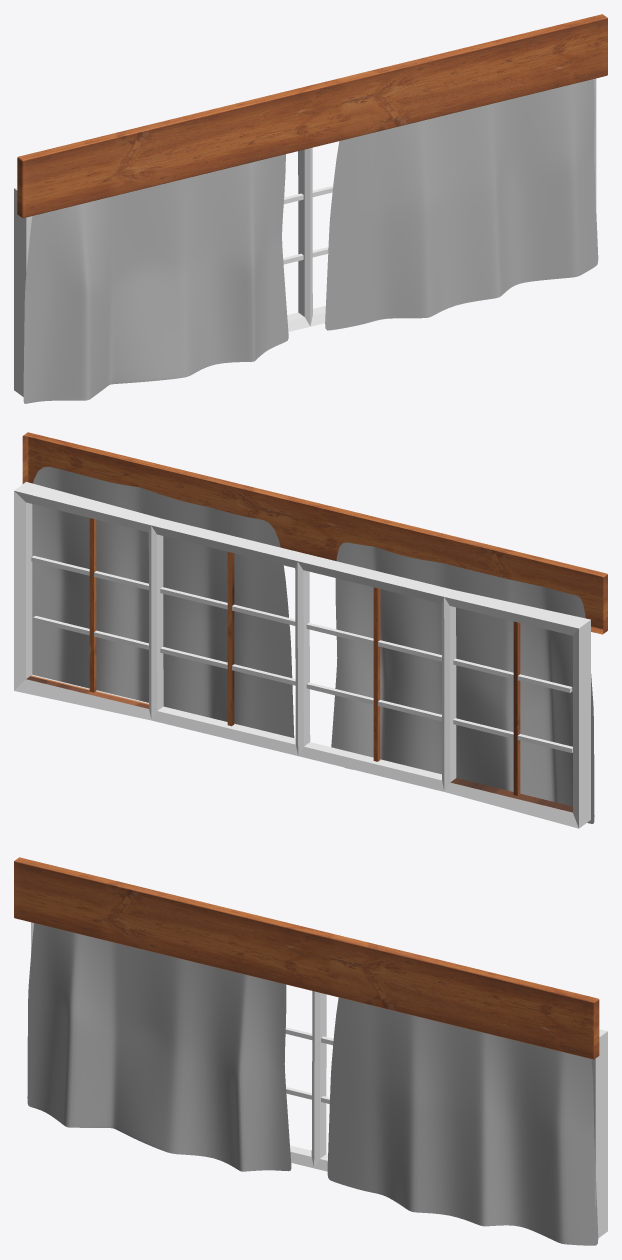
Rendered from Window_LargeDomestic.fbx.
3 views of the same model, one above another, from view 1: azimuth 30°, elevation 25°; view 2: azimuth 150°, elevation 25°; view 3: azimuth 330°, elevation 25° (orthographic).
Parts seen in each view (by area): view 1: Windows_Large; view 2: Windows_Large; view 3: Windows_Large.
Part boxes in pixels (x1=…): Windows_Large: x1=14, y1=14, x2=607, y2=403; Windows_Large: x1=14, y1=432, x2=607, y2=828; Windows_Large: x1=14, y1=857, x2=607, y2=1245.
Bounding box in the file's own units: 138 × 57.96 × 10.09.
Materials: 2 (1 with a texture image).
